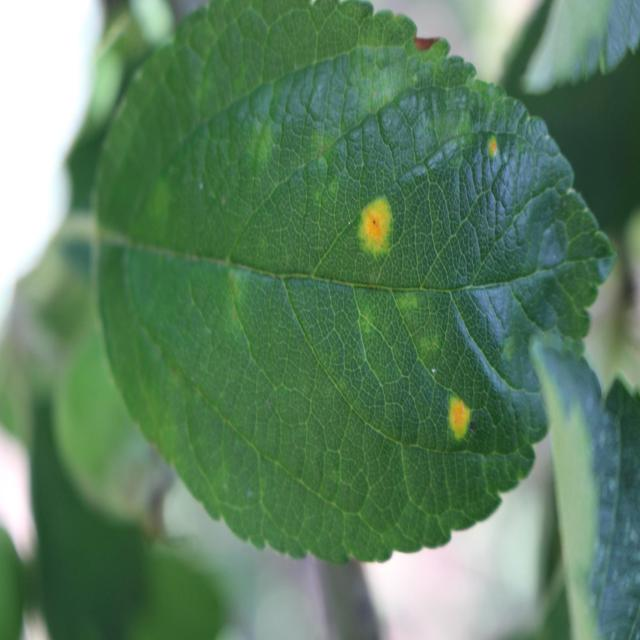Rust: (356, 182, 399, 268), (446, 394, 474, 446), (482, 134, 507, 162)
